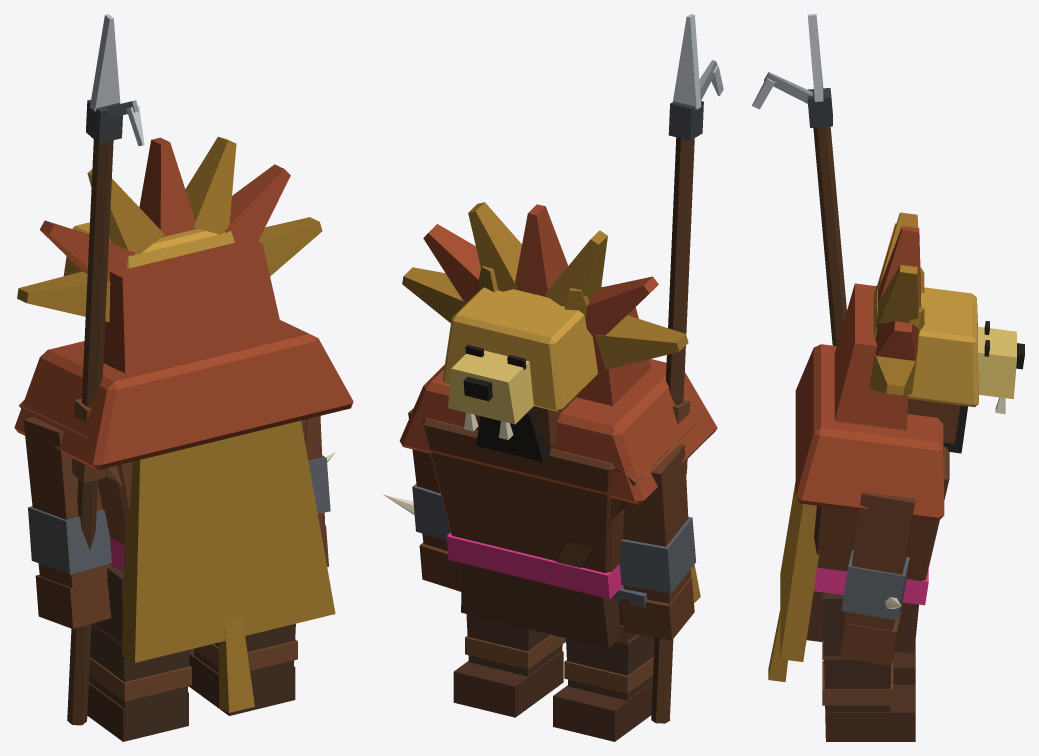
File: EN_BeastLord.fbx
The picture shows the model from 3 angles, left to right: view 1: azimuth 30°, elevation 25°; view 2: azimuth 150°, elevation 25°; view 3: azimuth 270°, elevation 25°; orthographic projection. The views are drawn at different scales.
Parts seen in each view (by area): view 1: Pelt, Mane, HoodMane, Goad, LegL, ArmL, BracerL, Tuft3, Tuft2, HandL, LegR, Tuft1 (+16 smaller); view 2: Body, Mane, Hood, Loin, Goad, ArmL, Belt, FootR, Snout, FootL, BracerL, Tuft3 (+21 smaller); view 3: Mane, Hood, HoodMane, Pelt, ArmR, Body, LegR, Goad, FootR, BracerR, Snout, HandR (+15 smaller).
Part boxes in pixels (<box>): Pelt: <box>122,420,335,662</box>; Mane: <box>14,320,353,470</box>; HoodMane: <box>103,237,282,373</box>; Goad: <box>67,139,113,725</box>; LegL: <box>89,566,189,741</box>; ArmL: <box>23,417,112,588</box>; BracerL: <box>28,506,111,574</box>; Tuft3: <box>139,137,197,237</box>; Tuft2: <box>185,137,236,234</box>; HandL: <box>35,574,111,628</box>; LegR: <box>194,623,295,715</box>; Tuft1: <box>224,164,290,241</box>; Body: <box>422,418,624,572</box>; Mane: <box>399,359,717,504</box>; Hood: <box>442,287,597,412</box>; Loin: <box>461,563,620,648</box>; Goad: <box>651,137,694,723</box>; ArmL: <box>623,444,690,603</box>; Belt: <box>446,532,623,599</box>; FootR: <box>453,651,563,717</box>; Snout: <box>448,350,534,424</box>; FootL: <box>553,682,652,741</box>; BracerL: <box>619,517,695,593</box>; Tuft3: <box>514,204,568,297</box>; Mane: <box>795,344,944,521</box>; Hood: <box>873,285,978,407</box>; HoodMane: <box>834,283,908,430</box>; Pelt: <box>780,481,818,661</box>; ArmR: <box>844,492,915,630</box>; Body: <box>814,447,949,580</box>; LegR: <box>822,593,891,737</box>; Goad: <box>813,126,846,345</box>; FootR: <box>826,685,915,741</box>; BracerR: <box>841,550,909,620</box>; Snout: <box>977,326,1016,399</box>; HandR: <box>840,612,901,665</box>.
Bounding box in the file's own units: 2.22 × 1.89 × 4.91.
